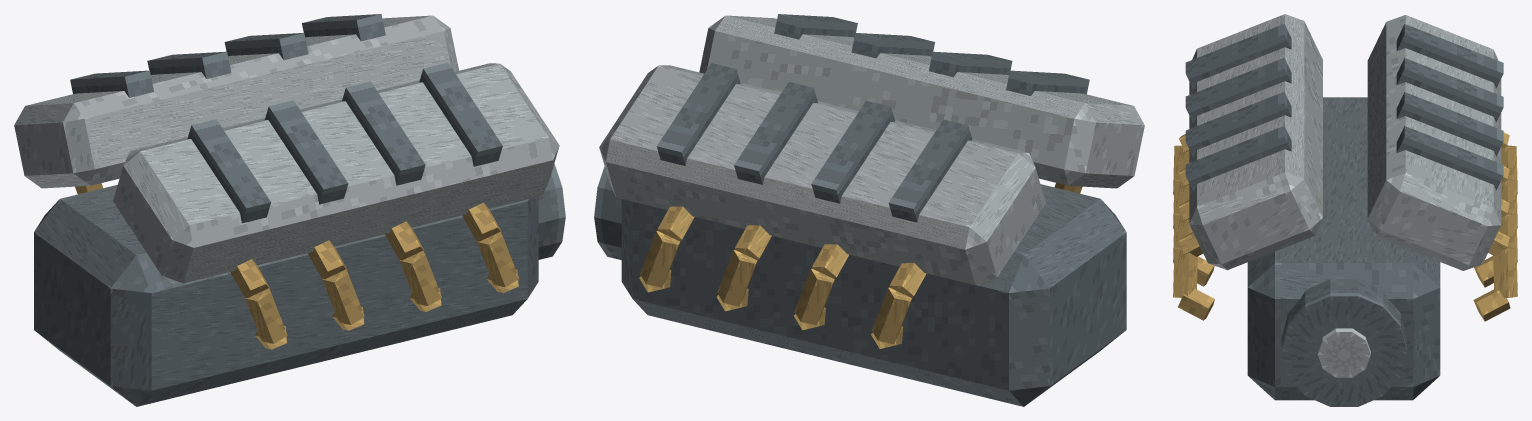
The model's file is v8_combustion.glb.
3 views of the same model, side by side, from view 1: azimuth 30°, elevation 25°; view 2: azimuth 150°, elevation 25°; view 3: azimuth 270°, elevation 25° (orthographic). The views are drawn at different scales.
Visible parts, largest first — view 1: block_valve cover (×2), block_ribbed cast engine housing, block_cast cover rib (×8), block_bank exhaust branch 1 (×4), block_bank exhaust branch 0 (×4), block_crank pulley; view 2: block_valve cover (×2), block_ribbed cast engine housing, block_cast cover rib (×8), block_bank exhaust branch 1 (×4), block_bank exhaust branch 0 (×4), block_crank pulley; view 3: block_valve cover (×2), block_ribbed cast engine housing, block_cast cover rib (×8), block_crank pulley, block_bank exhaust branch 1 (×8), block_bank exhaust branch 2 (×4), block_pulley hub, block_bank exhaust branch 0 (×2).
Boxes of the visible parts, x1=… form: block_valve cover (×2): x1=14, y1=15, x2=559, y2=283; block_ribbed cast engine housing: x1=34, y1=185, x2=538, y2=406; block_cast cover rib (×8): x1=70, y1=14, x2=502, y2=223; block_bank exhaust branch 1 (×4): x1=245, y1=231, x2=519, y2=343; block_bank exhaust branch 0 (×4): x1=230, y1=202, x2=502, y2=298; block_crank pulley: x1=538, y1=163, x2=565, y2=259; block_valve cover (×2): x1=599, y1=15, x2=1144, y2=285; block_ribbed cast engine housing: x1=621, y1=184, x2=1126, y2=406; block_cast cover rib (×8): x1=657, y1=14, x2=1089, y2=222; block_bank exhaust branch 1 (×4): x1=640, y1=231, x2=912, y2=344; block_bank exhaust branch 0 (×4): x1=657, y1=206, x2=926, y2=297; block_crank pulley: x1=594, y1=166, x2=621, y2=259; block_valve cover (×2): x1=1189, y1=14, x2=1501, y2=270; block_ribbed cast engine housing: x1=1247, y1=97, x2=1440, y2=400; block_cast cover rib (×8): x1=1185, y1=23, x2=1503, y2=191; block_crank pulley: x1=1281, y1=279, x2=1406, y2=406; block_bank exhaust branch 1 (×8): x1=1173, y1=145, x2=1517, y2=297; block_bank exhaust branch 2 (×4): x1=1178, y1=256, x2=1510, y2=321; block_pulley hub: x1=1317, y1=328, x2=1370, y2=377; block_bank exhaust branch 0 (×2): x1=1179, y1=231, x2=1509, y2=256.
Bounding box in the file's own units: 1.2 × 0.6479 × 0.8524.
Materials: 1 (1 with a texture image).
